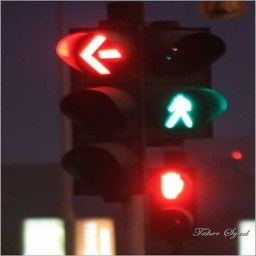traffic light: (54, 25, 144, 195), (144, 26, 227, 138), (143, 168, 201, 239)
